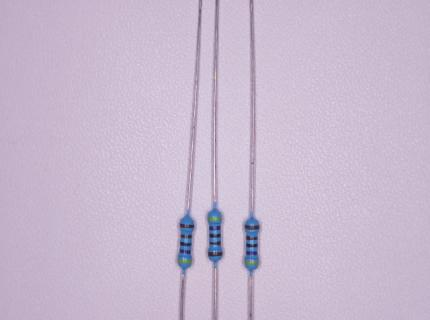Black band: (209, 233, 221, 238), (180, 242, 191, 247), (246, 243, 258, 247)
Brown band: (245, 225, 259, 230), (245, 236, 258, 241), (208, 252, 223, 256), (180, 224, 194, 228), (181, 234, 192, 239), (210, 240, 221, 245)
Violet band: (179, 249, 191, 254), (209, 226, 220, 231), (245, 251, 257, 255)
Yellow band: (208, 216, 222, 220), (245, 261, 259, 265), (178, 259, 192, 263)
